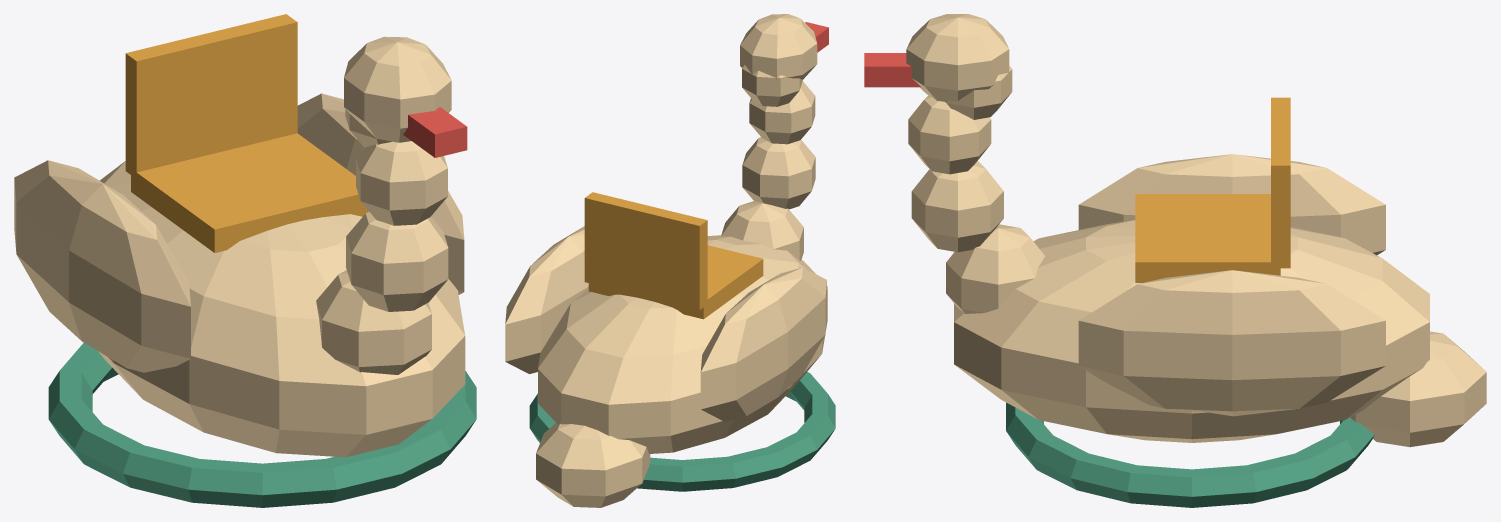
File: ParkParkSwan.obj
3 renders of one model, left to right at view 1: azimuth 30°, elevation 25°; view 2: azimuth 150°, elevation 25°; view 3: azimuth 270°, elevation 25°, orthographic. The views are drawn at different scales.
Visible parts, largest first — view 1: ParkParkSwan; view 2: ParkParkSwan; view 3: ParkParkSwan.
Boxes of the visible parts, x1,y1,x2,y2 form: ParkParkSwan: [14, 14, 476, 507]; ParkParkSwan: [505, 14, 835, 507]; ParkParkSwan: [864, 14, 1486, 507].
Size of the model in its own units: 2.34 by 2.88 by 3.86.
